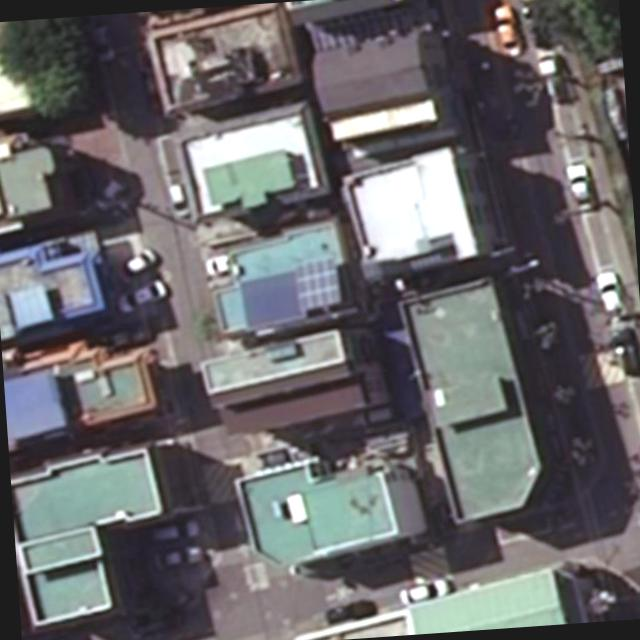solar: (293, 258, 342, 310)
